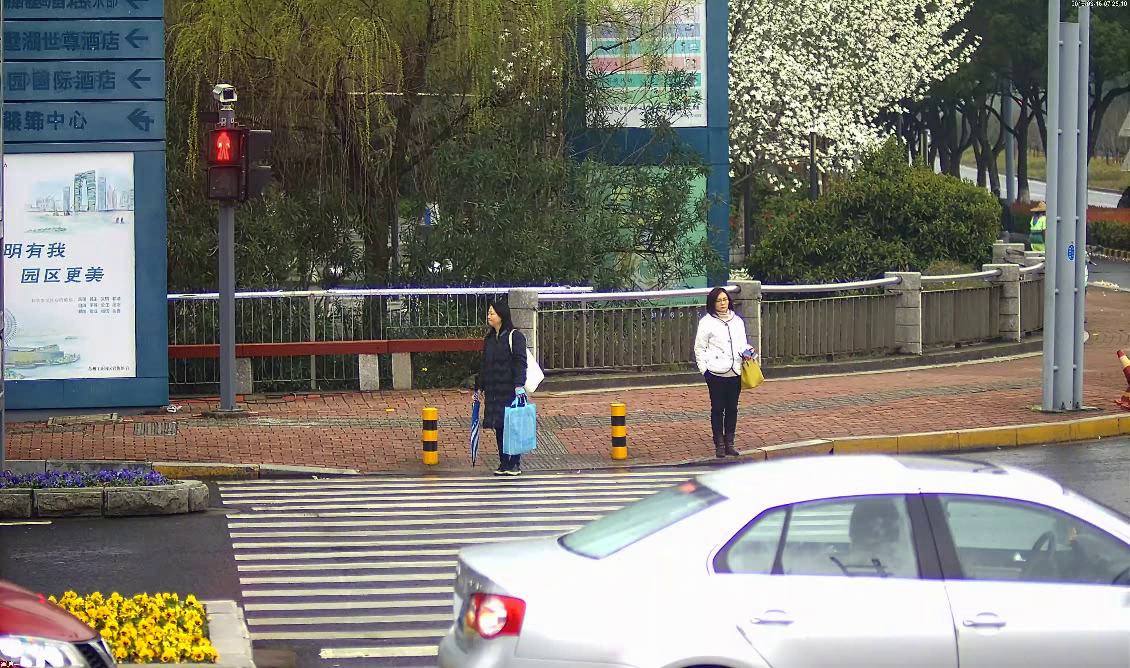person: (467, 294, 552, 480), (693, 284, 765, 463)
